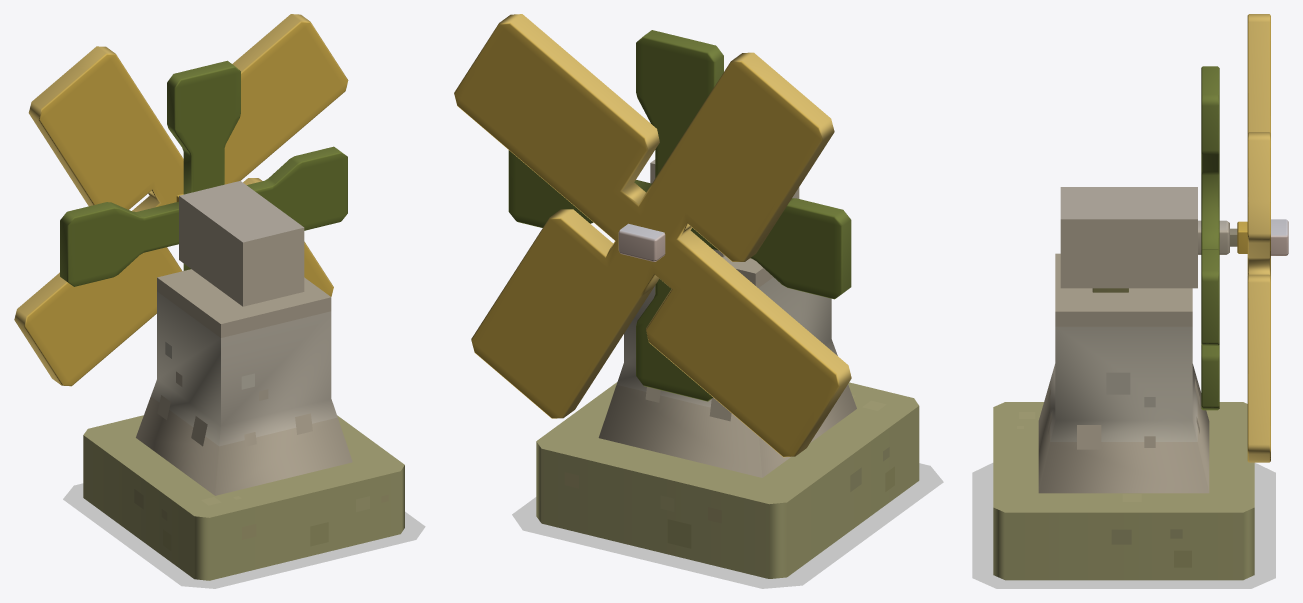
The model's file is MG_special_wind_01.fbx.
3 views of the same model, side by side, from view 1: azimuth 30°, elevation 25°; view 2: azimuth 150°, elevation 25°; view 3: azimuth 270°, elevation 25° (orthographic). The views are drawn at different scales.
Visible parts, largest first — view 1: polySurfac3, polySurface2, ground; view 2: polySurface2, polySurfac3, ground; view 3: polySurfac3, polySurface2, ground.
Boxes of the visible parts, x1,y1,x2,y2 form: polySurfac3: [60, 60, 404, 580]; polySurface2: [14, 14, 348, 386]; ground: [63, 483, 425, 588]; polySurface2: [454, 14, 851, 457]; polySurfac3: [508, 30, 919, 578]; ground: [512, 463, 943, 588]; polySurfac3: [993, 66, 1288, 580]; polySurface2: [1247, 14, 1270, 462]; ground: [972, 463, 1275, 588].
Bounding box in the file's own units: 4.62 × 5.94 × 3.63.
